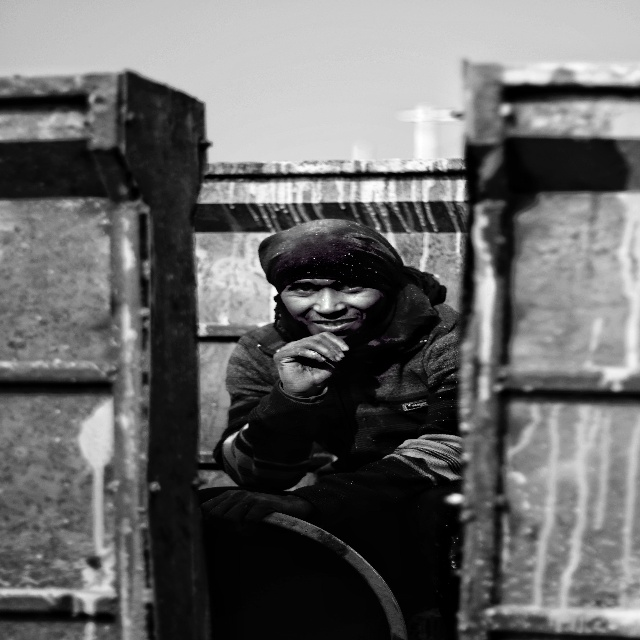Sin_guantes: (273, 330, 349, 394), (200, 489, 293, 537)
